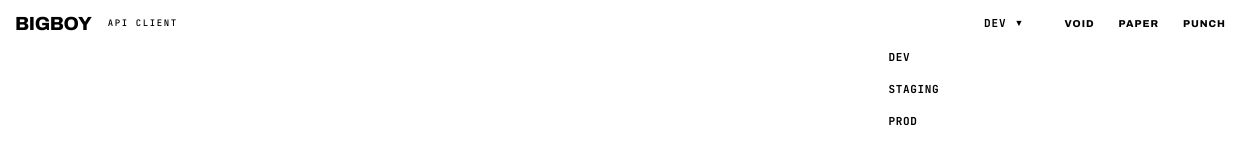
Scenario: TopBar — GREEN › clicking STAGING in dropdown sets env to STAGING
What coordinates should you click on to do the following:
click the text "STAGING"
I would click on:
 (914, 89)
Its box is [888,82,939,96].
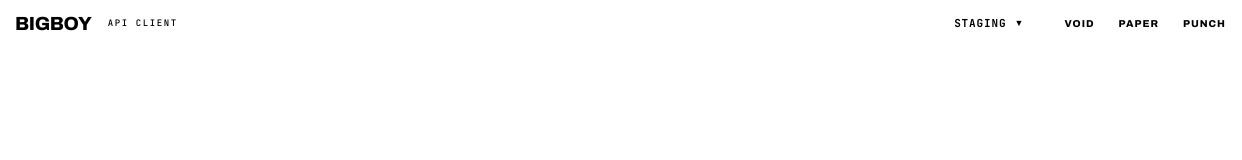
Result: the text "STAGING" is shown at [954,16,1006,30]
